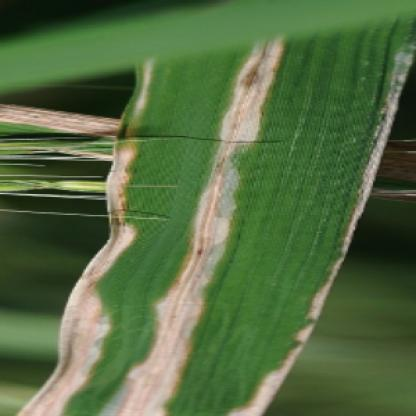Blight: (95, 43, 294, 416), (223, 43, 416, 416), (16, 63, 162, 416)
